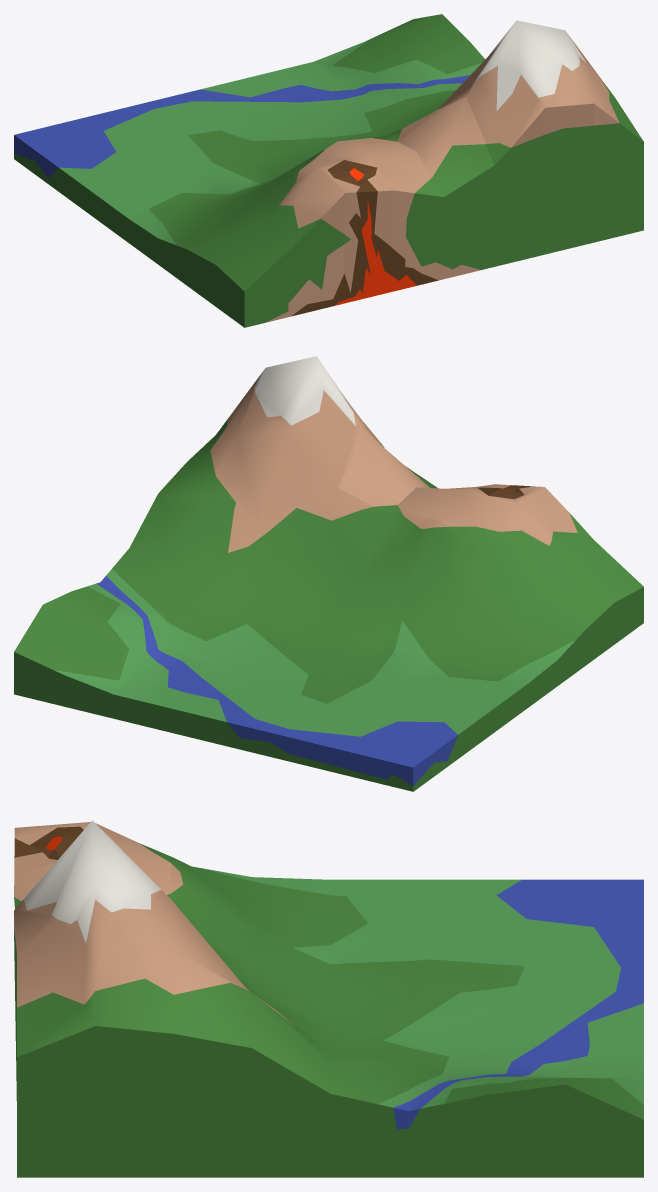
The model's file is EL_TerrainGround.FBX.
The picture shows the model from 3 angles, top to bottom: view 1: azimuth 30°, elevation 25°; view 2: azimuth 150°, elevation 25°; view 3: azimuth 270°, elevation 25°; orthographic projection. The views are drawn at different scales.
Parts seen in each view (by area): view 1: Plane003; view 2: Plane003; view 3: Plane003.
Boxes of the visible parts, bbox=[...] form: Plane003: bbox=[14, 14, 643, 327]; Plane003: bbox=[14, 356, 643, 791]; Plane003: bbox=[14, 820, 643, 1177].
Bounding box in the file's own units: 20 × 10.25 × 20.1.
